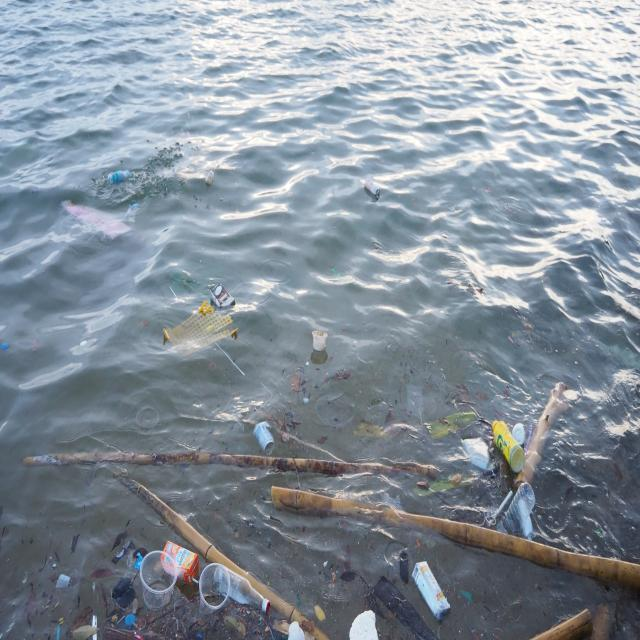foam: (459, 431, 497, 474), (348, 606, 381, 640)
plastic: (212, 562, 272, 612), (490, 412, 525, 477), (499, 482, 536, 542), (107, 166, 133, 185), (362, 175, 381, 198), (203, 167, 216, 188)
plastic bottle: (140, 547, 179, 613), (199, 562, 232, 618), (253, 420, 274, 454), (310, 328, 331, 353)
unknow: (162, 301, 238, 374), (61, 198, 130, 248), (412, 557, 452, 624), (162, 537, 200, 585), (208, 280, 238, 312)
